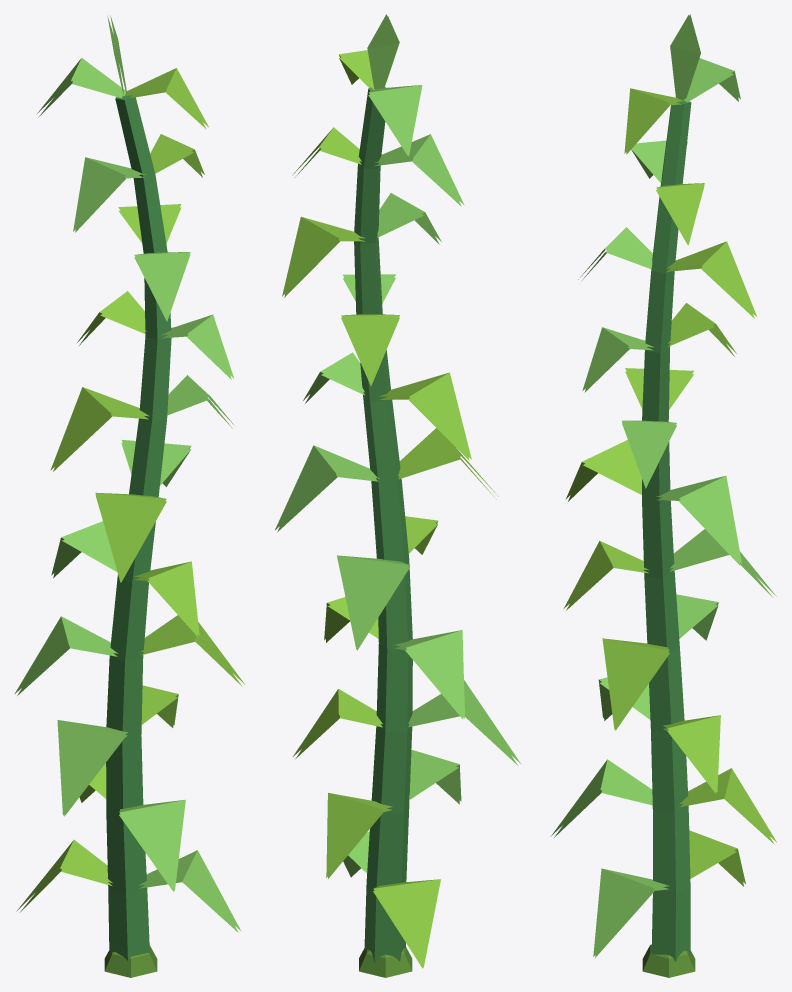
The model's file is kelp_vine_tall.fbx.
The picture shows the model from 3 angles, left to right: view 1: azimuth 30°, elevation 25°; view 2: azimuth 150°, elevation 25°; view 3: azimuth 270°, elevation 25°; orthographic projection.
Parts seen in each view (by area): view 1: kelp_vine_tall; view 2: kelp_vine_tall; view 3: kelp_vine_tall.
Boxes of the visible parts, bbox=[...] form: kelp_vine_tall: bbox=[14, 15, 244, 977]; kelp_vine_tall: bbox=[275, 14, 521, 977]; kelp_vine_tall: bbox=[550, 14, 776, 977].
Bounding box in the file's own units: 1036 × 4816 × 1048.
Materials: 1 (1 with a texture image).
